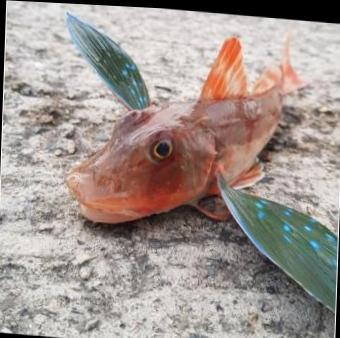fish: (64, 12, 335, 306)
